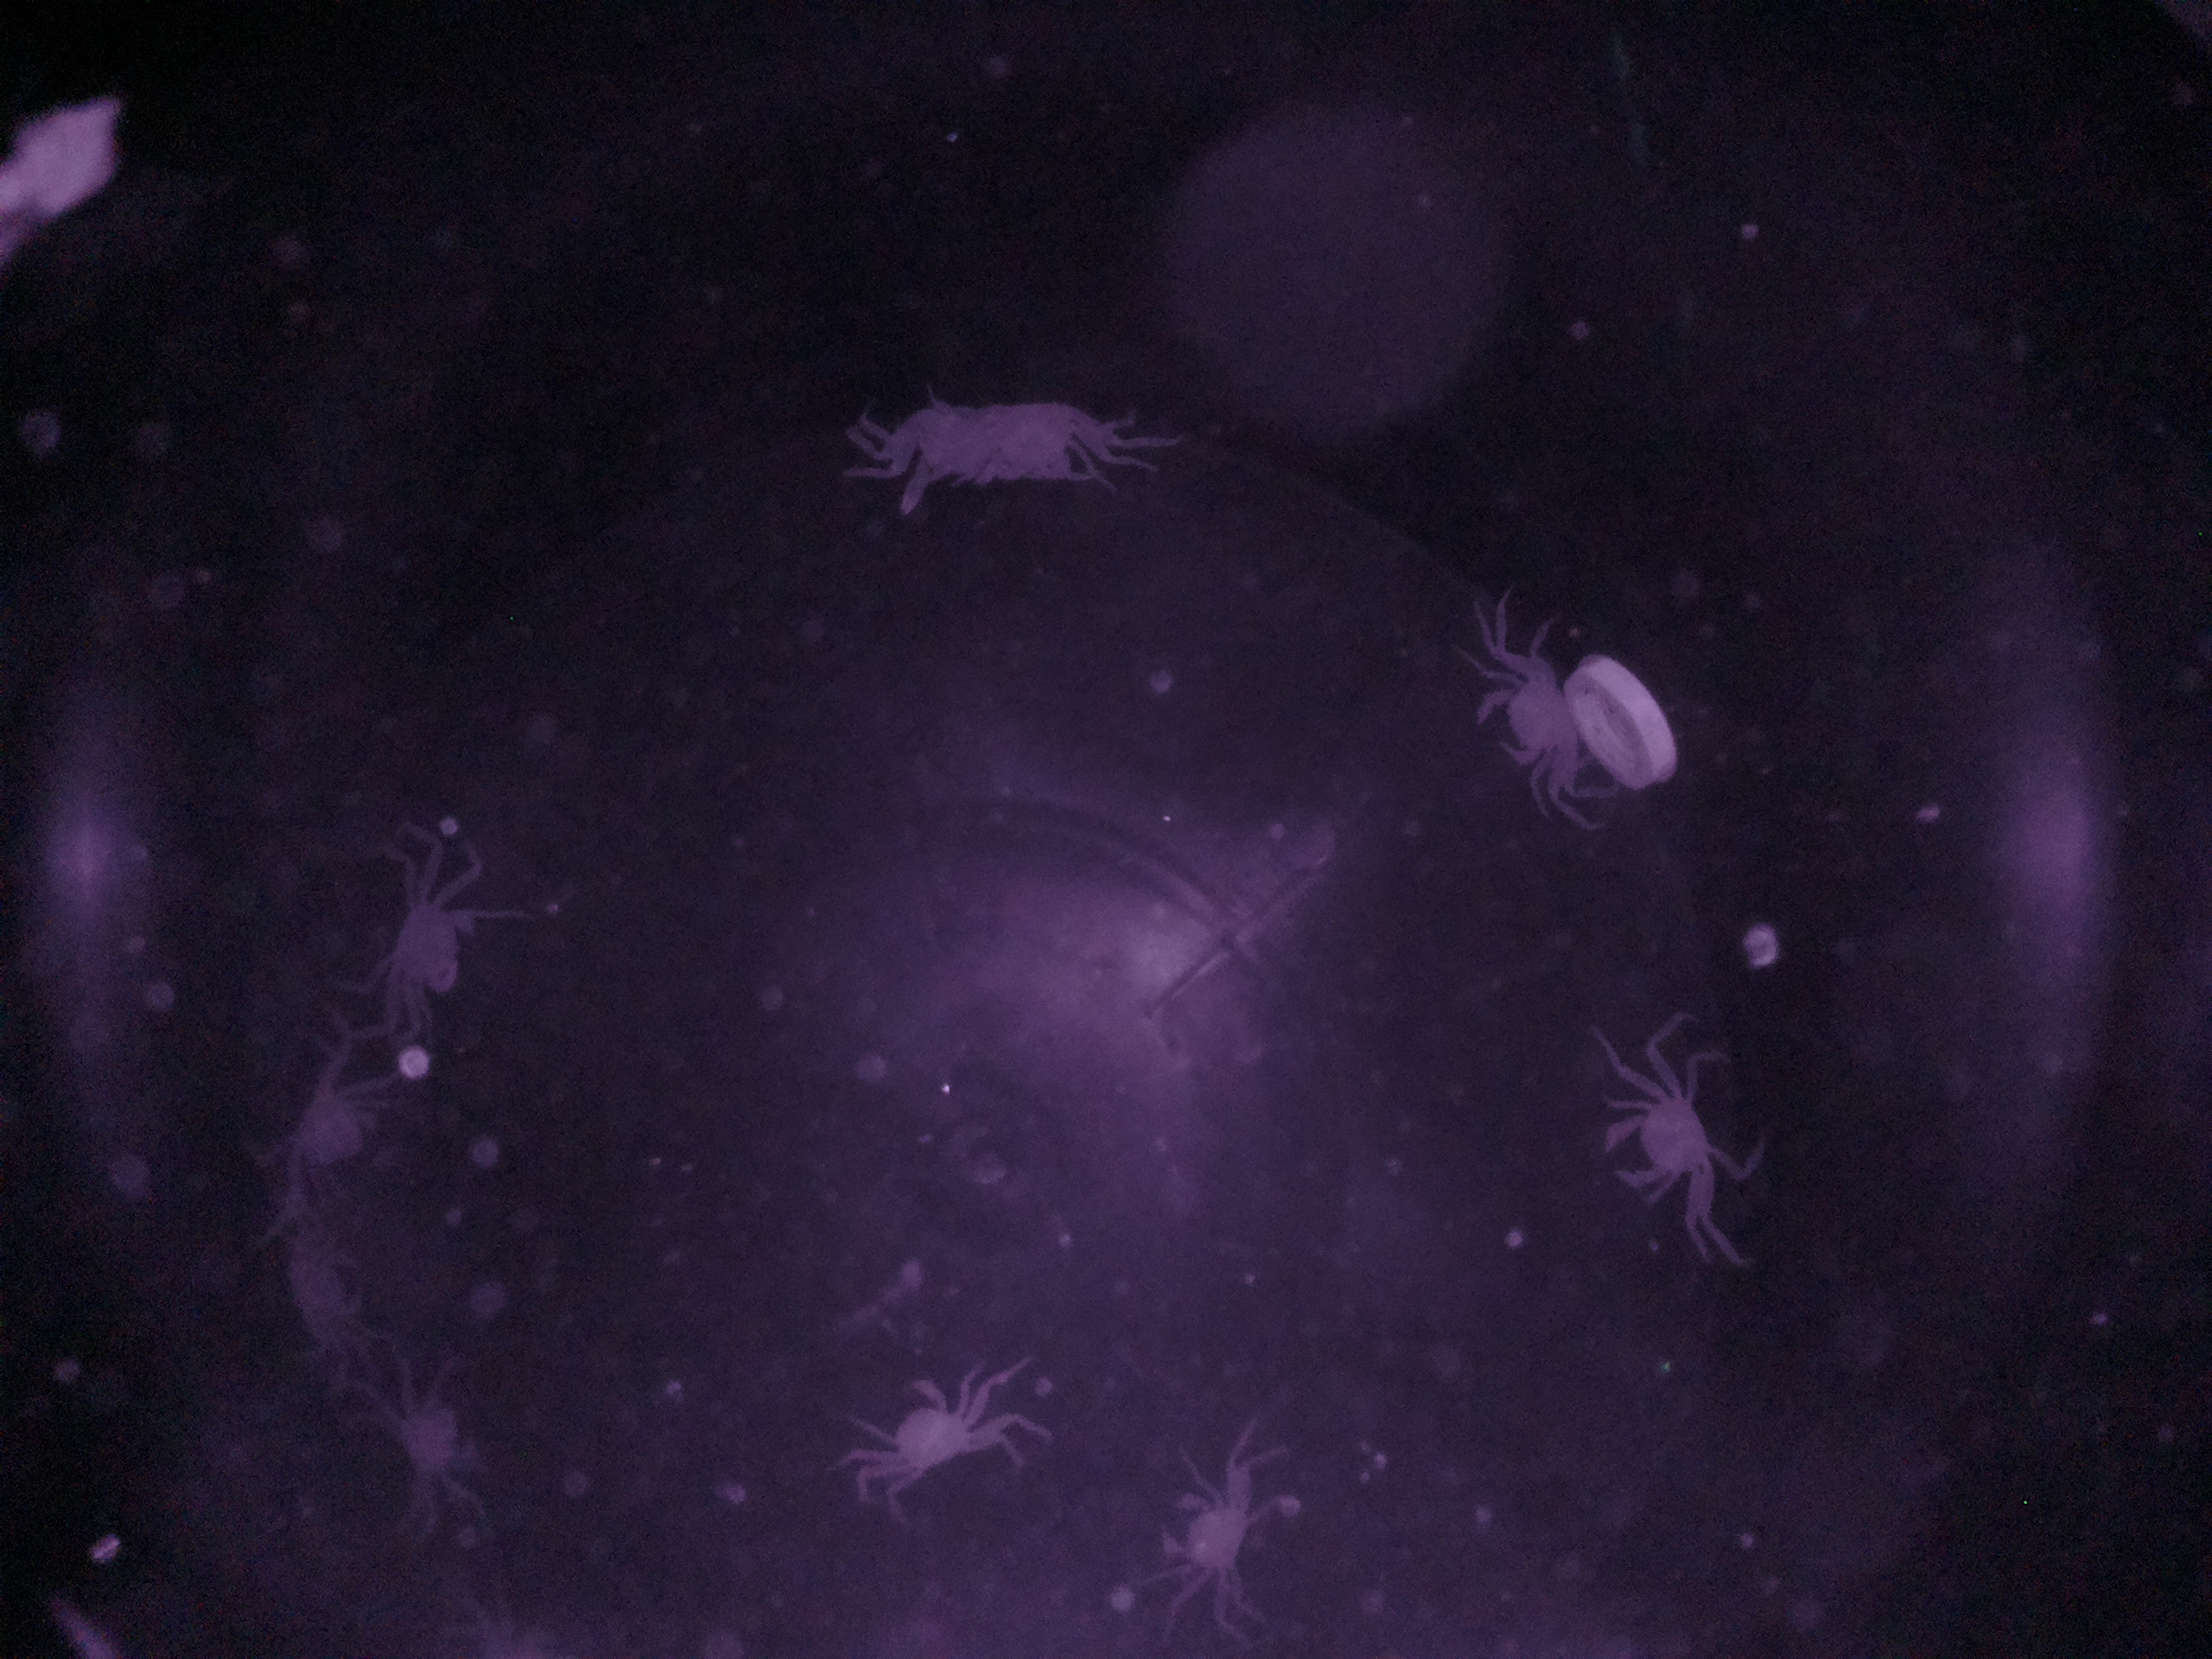Crab: (1592, 1044, 1750, 1225), (840, 1354, 1021, 1509), (1468, 636, 1608, 803), (1139, 1471, 1282, 1605)
